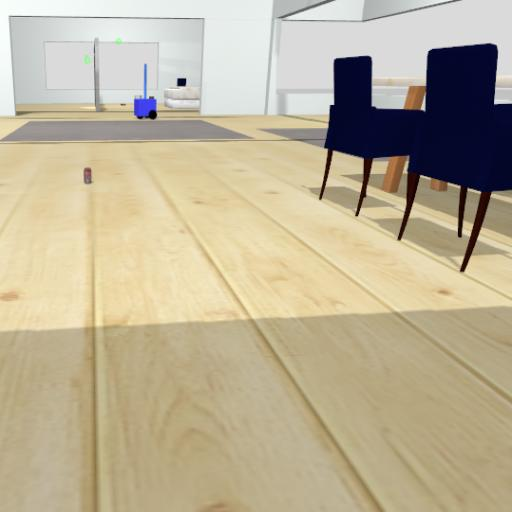COCA: (74, 159, 101, 192)
